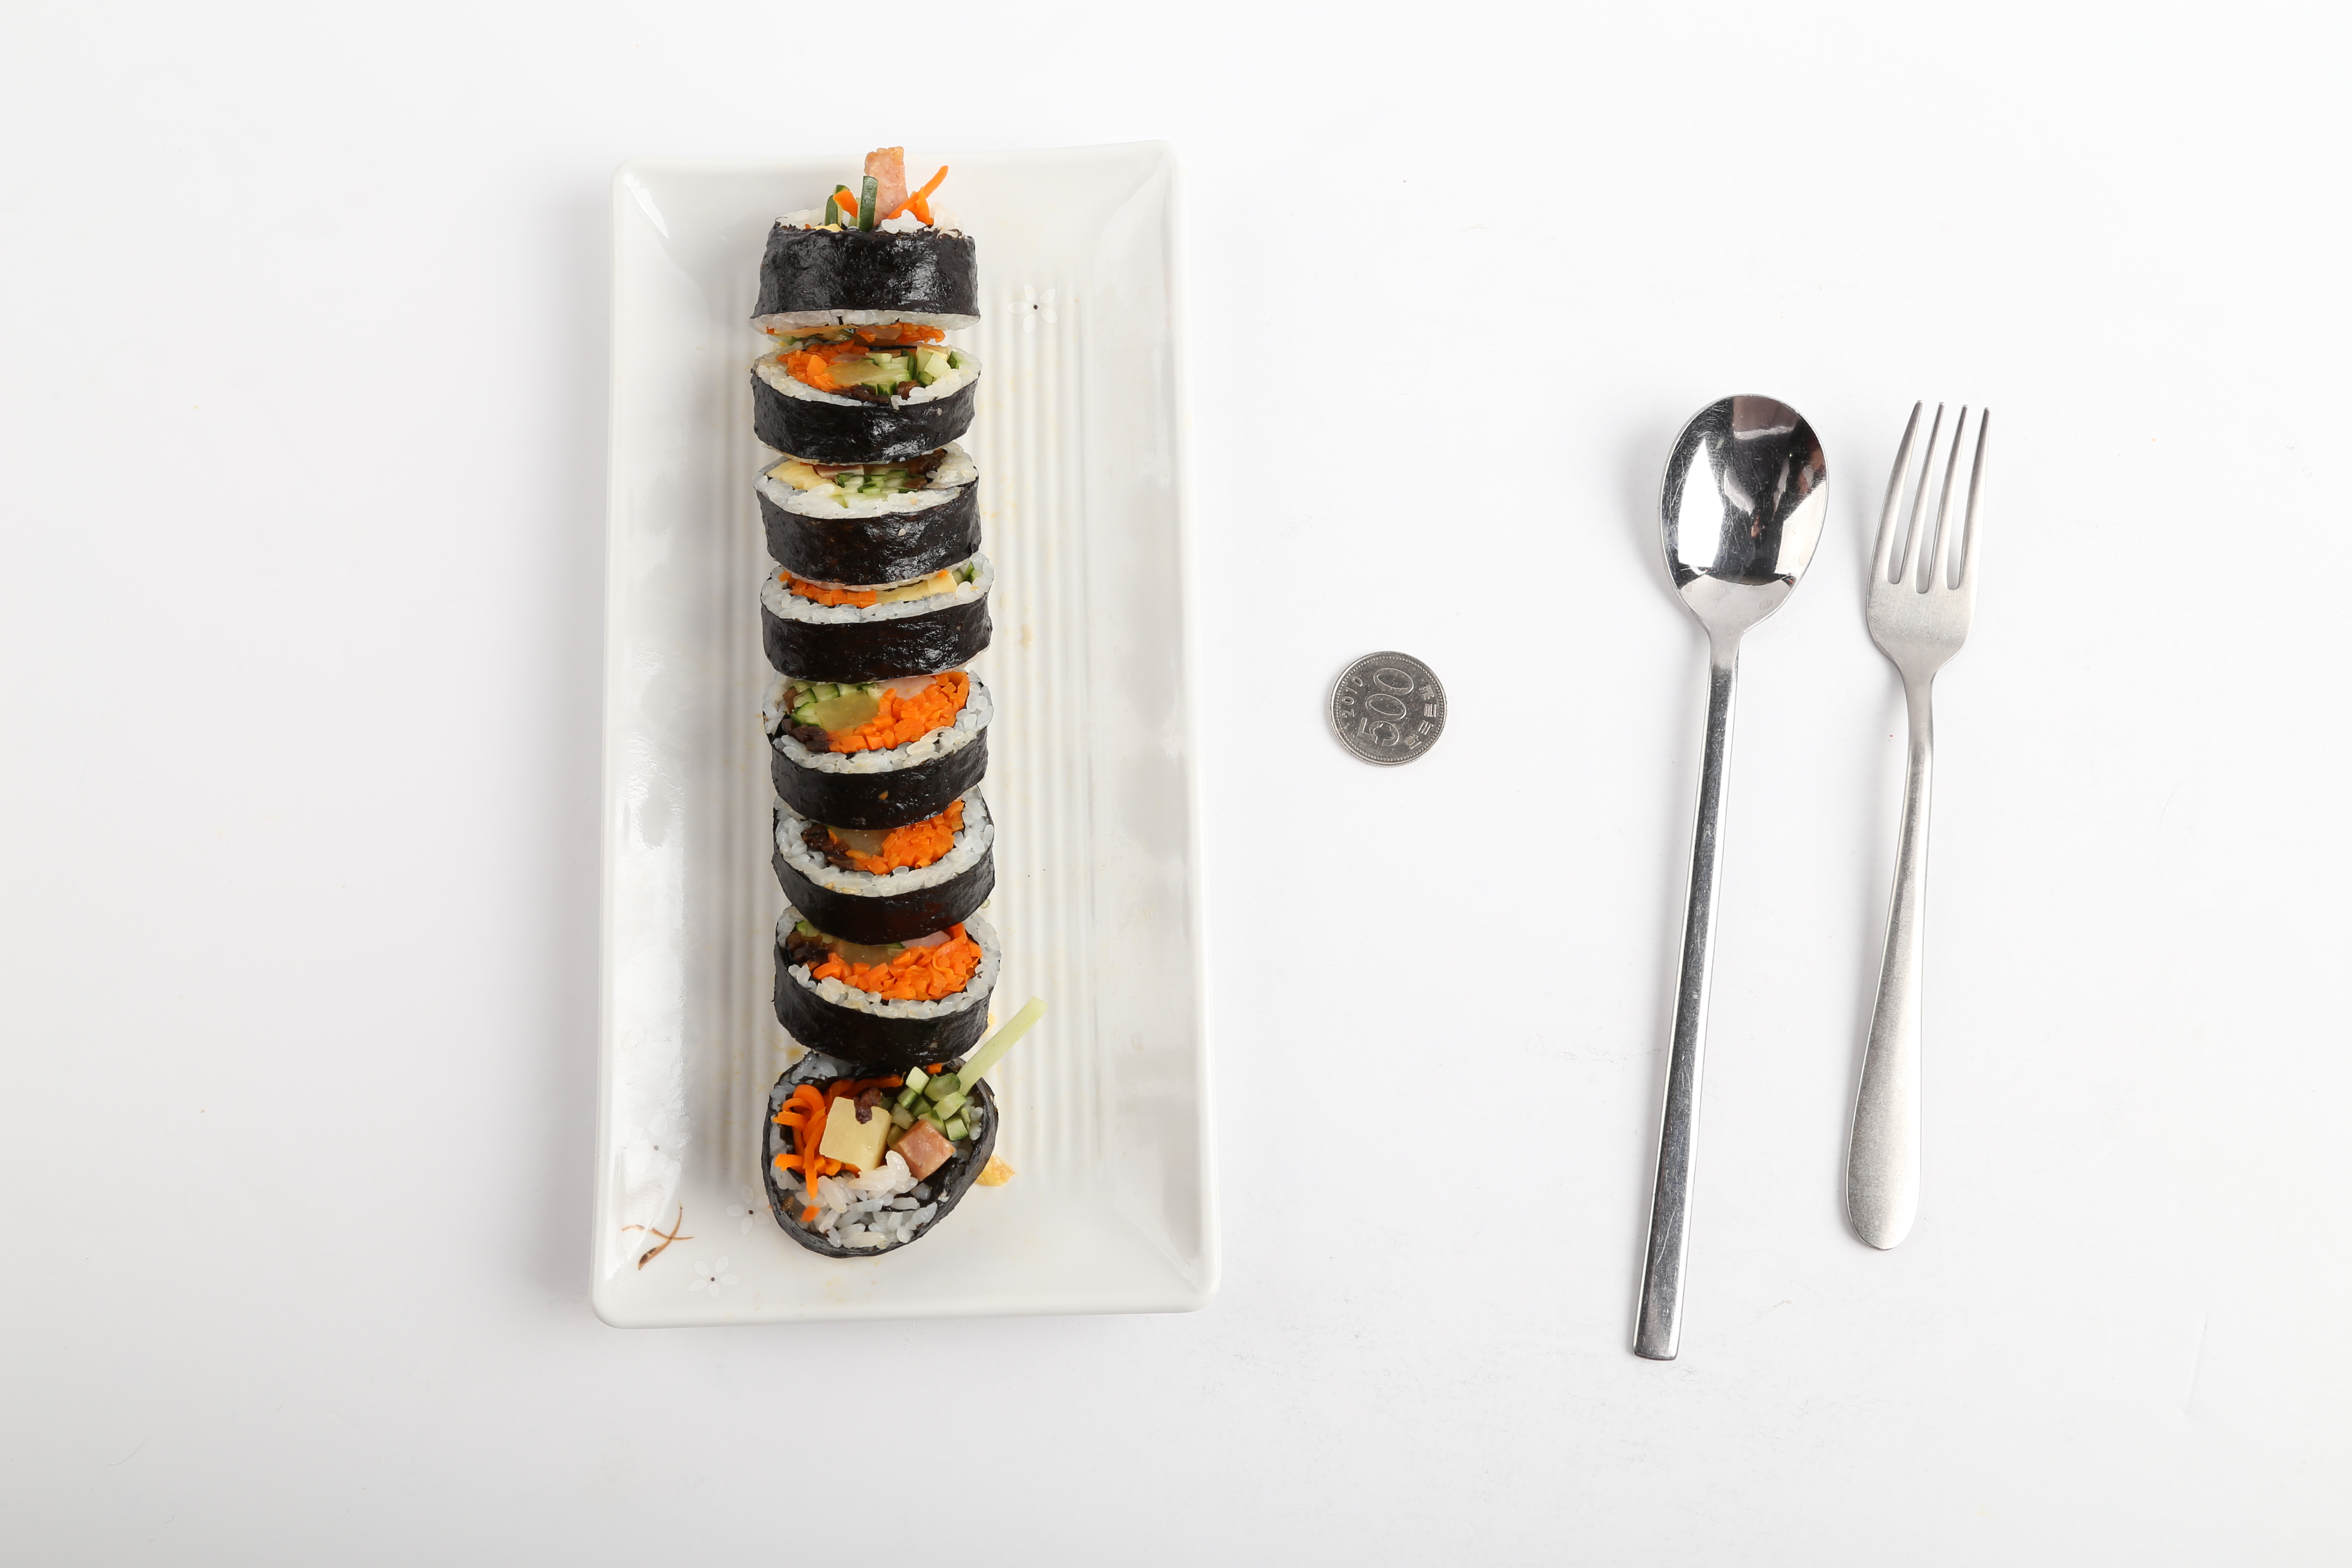dish: (581, 143, 1235, 1330)
ref_coin: (1325, 642, 1449, 773)
ref_fork: (1860, 395, 1997, 710)
ref_spoon: (1652, 388, 1832, 679)
김밥: (752, 201, 1004, 1260)
